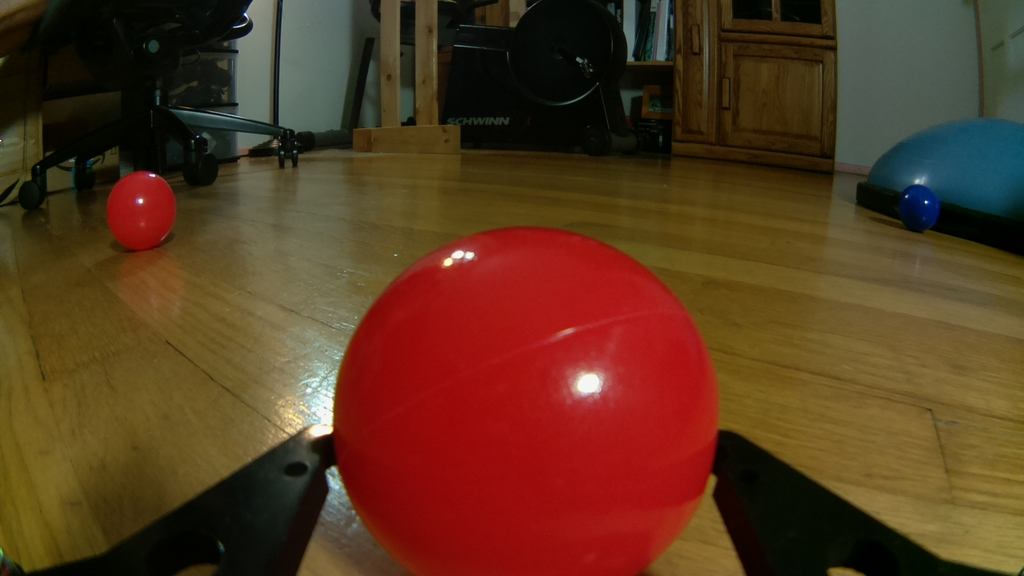ball: (324, 220, 720, 576)
